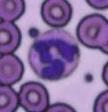N: (28, 29, 80, 80)
